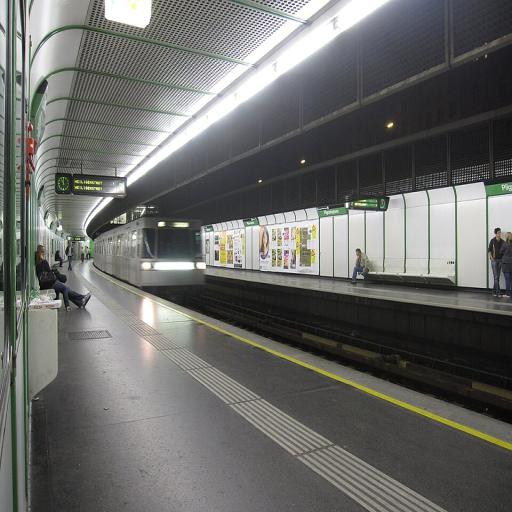Silberpfeil: (89, 213, 209, 301)
